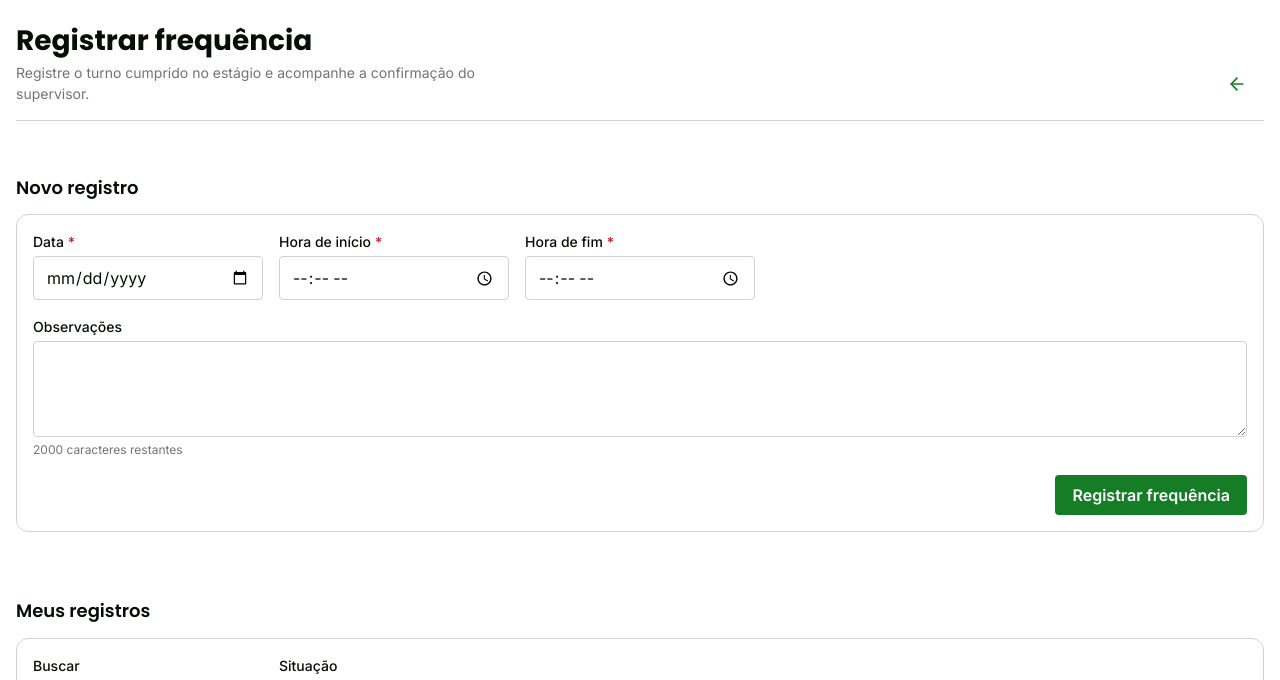
Test: FolhaDePontos › cria o registro e recarrega a lista
The width and height of the screenshot is (1280, 680).
Step 1. Type "2026-06-16" into the date field labelled "Data*" → (148,278), box x1=33 y1=256 x2=263 y2=300
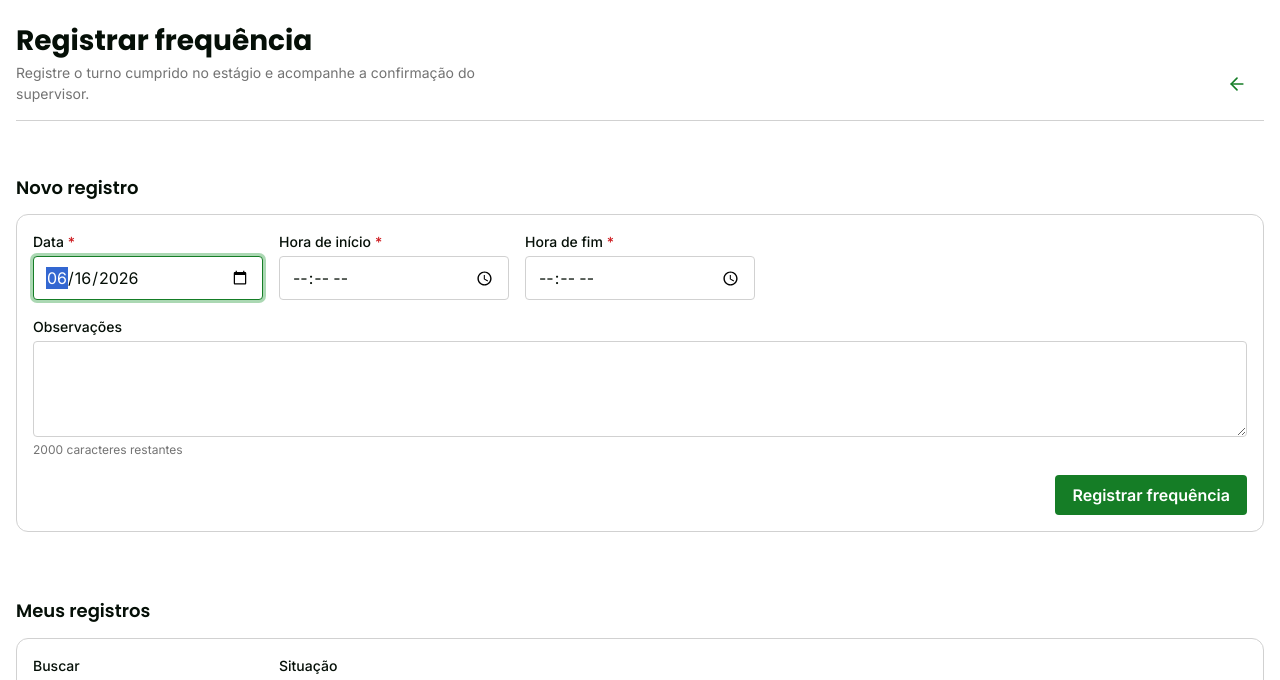
Step 2. Type "13:30" into the time field labelled "Hora de início*" → (394,278), box x1=279 y1=256 x2=509 y2=300
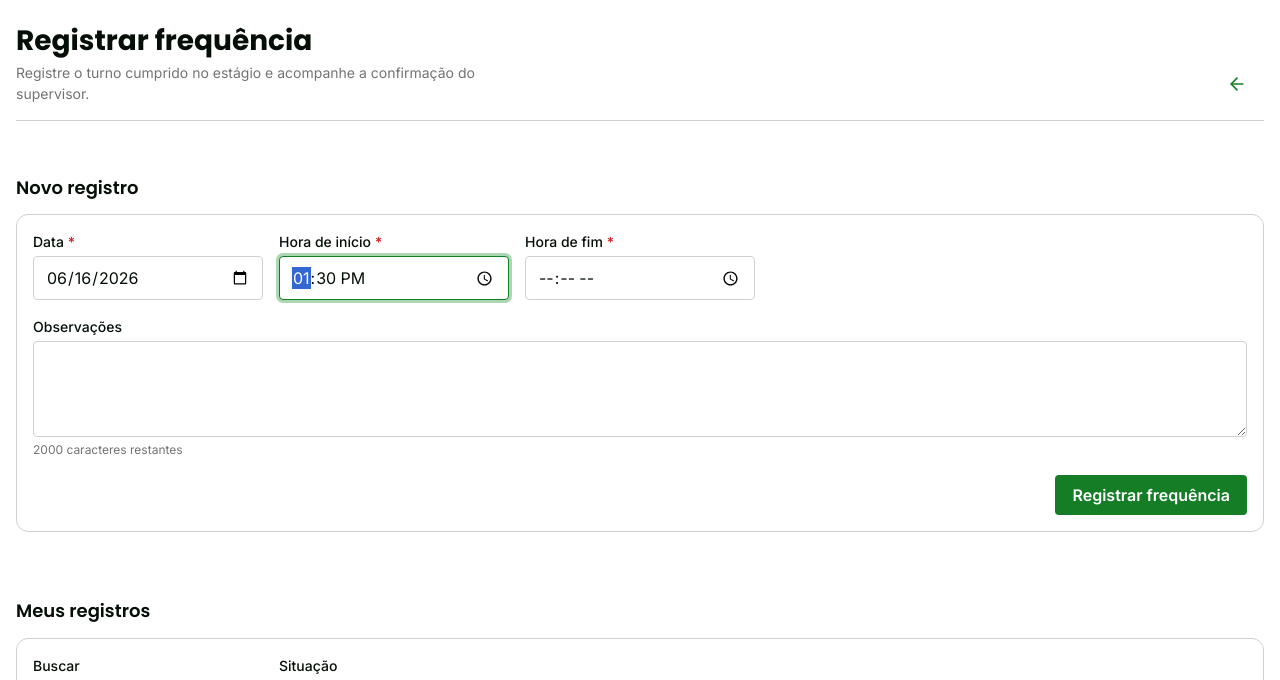
Step 3. Type "17:30" into the time field labelled "Hora de fim*" → (640,278), box x1=525 y1=256 x2=755 y2=300
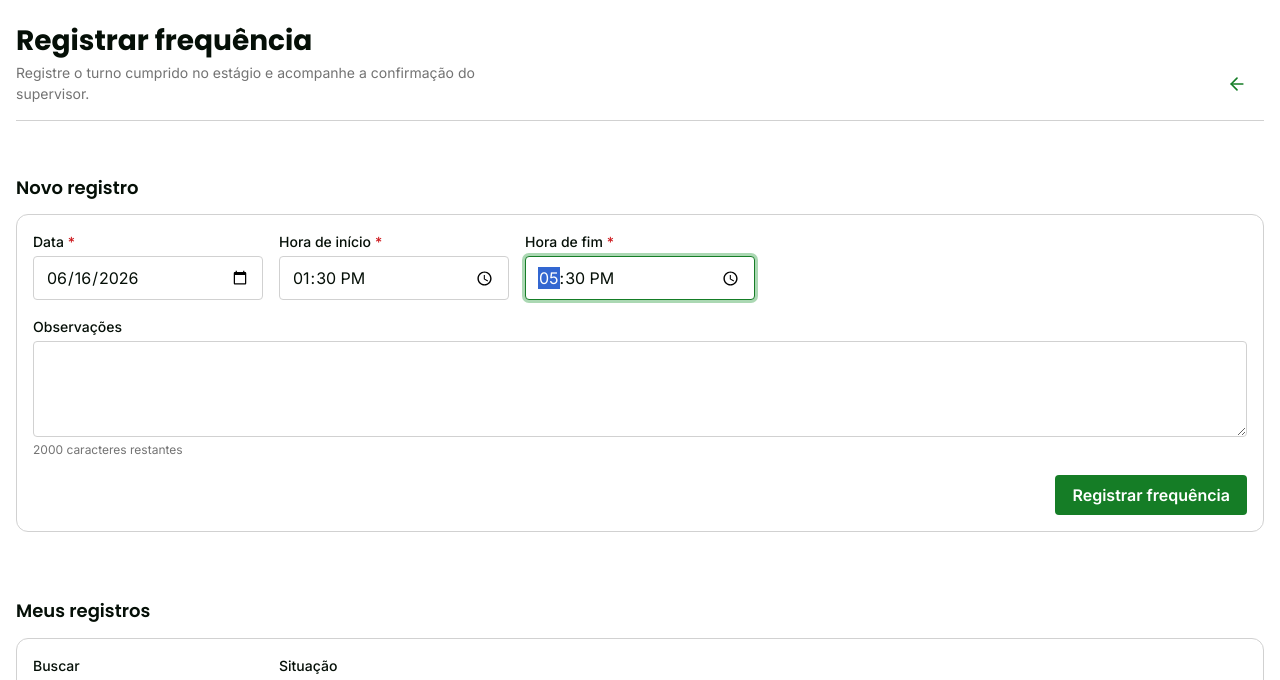
Step 4. Click the button "Registrar frequência" → (1151,495), box x1=1056 y1=475 x2=1247 y2=515
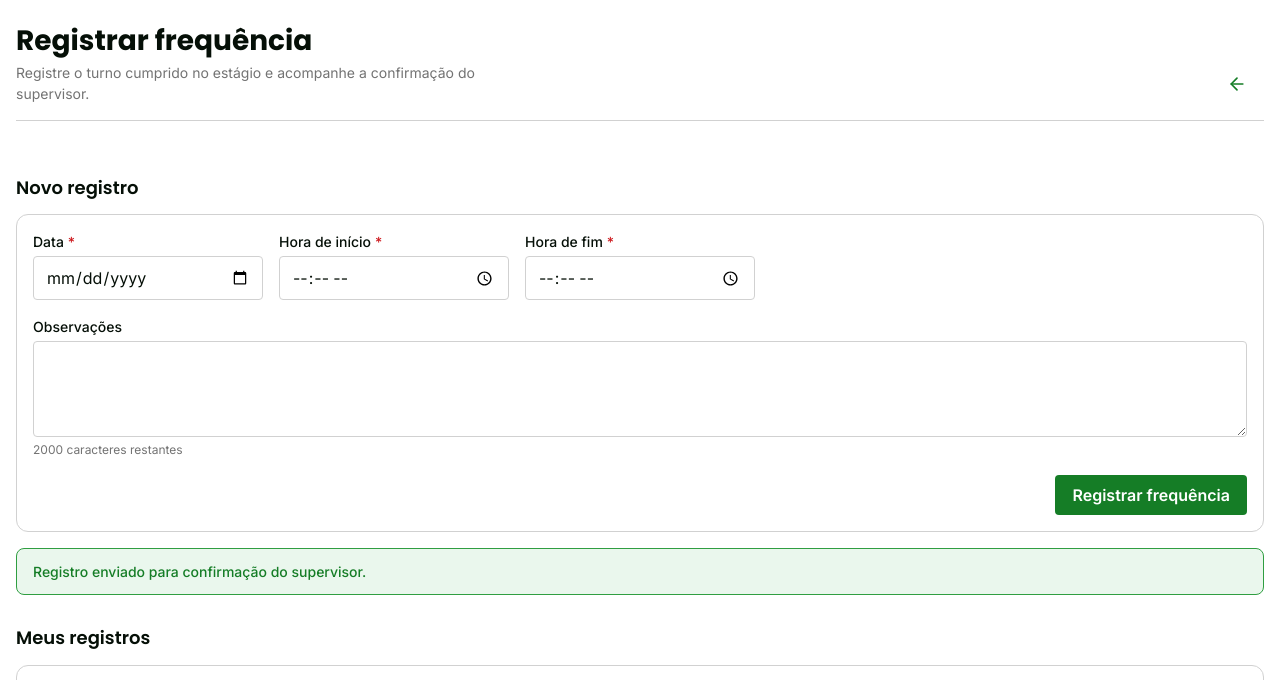
Expected: the text "Registro enviado para confirmação do supervisor." is shown, x1=16 y1=548 x2=1264 y2=595
